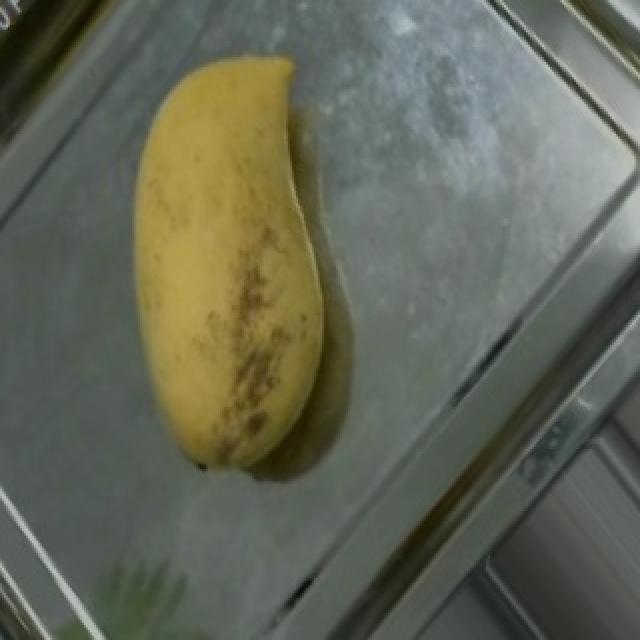fruit: (78, 8, 414, 436)
